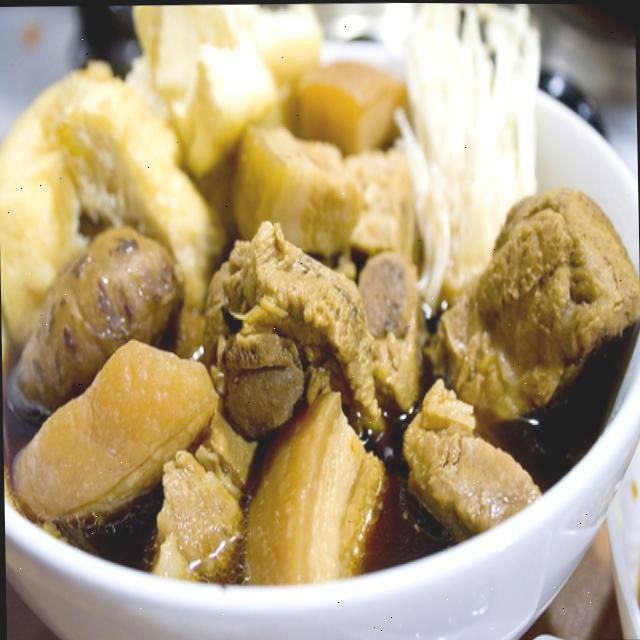汤锅炖物: (11, 30, 634, 585)
